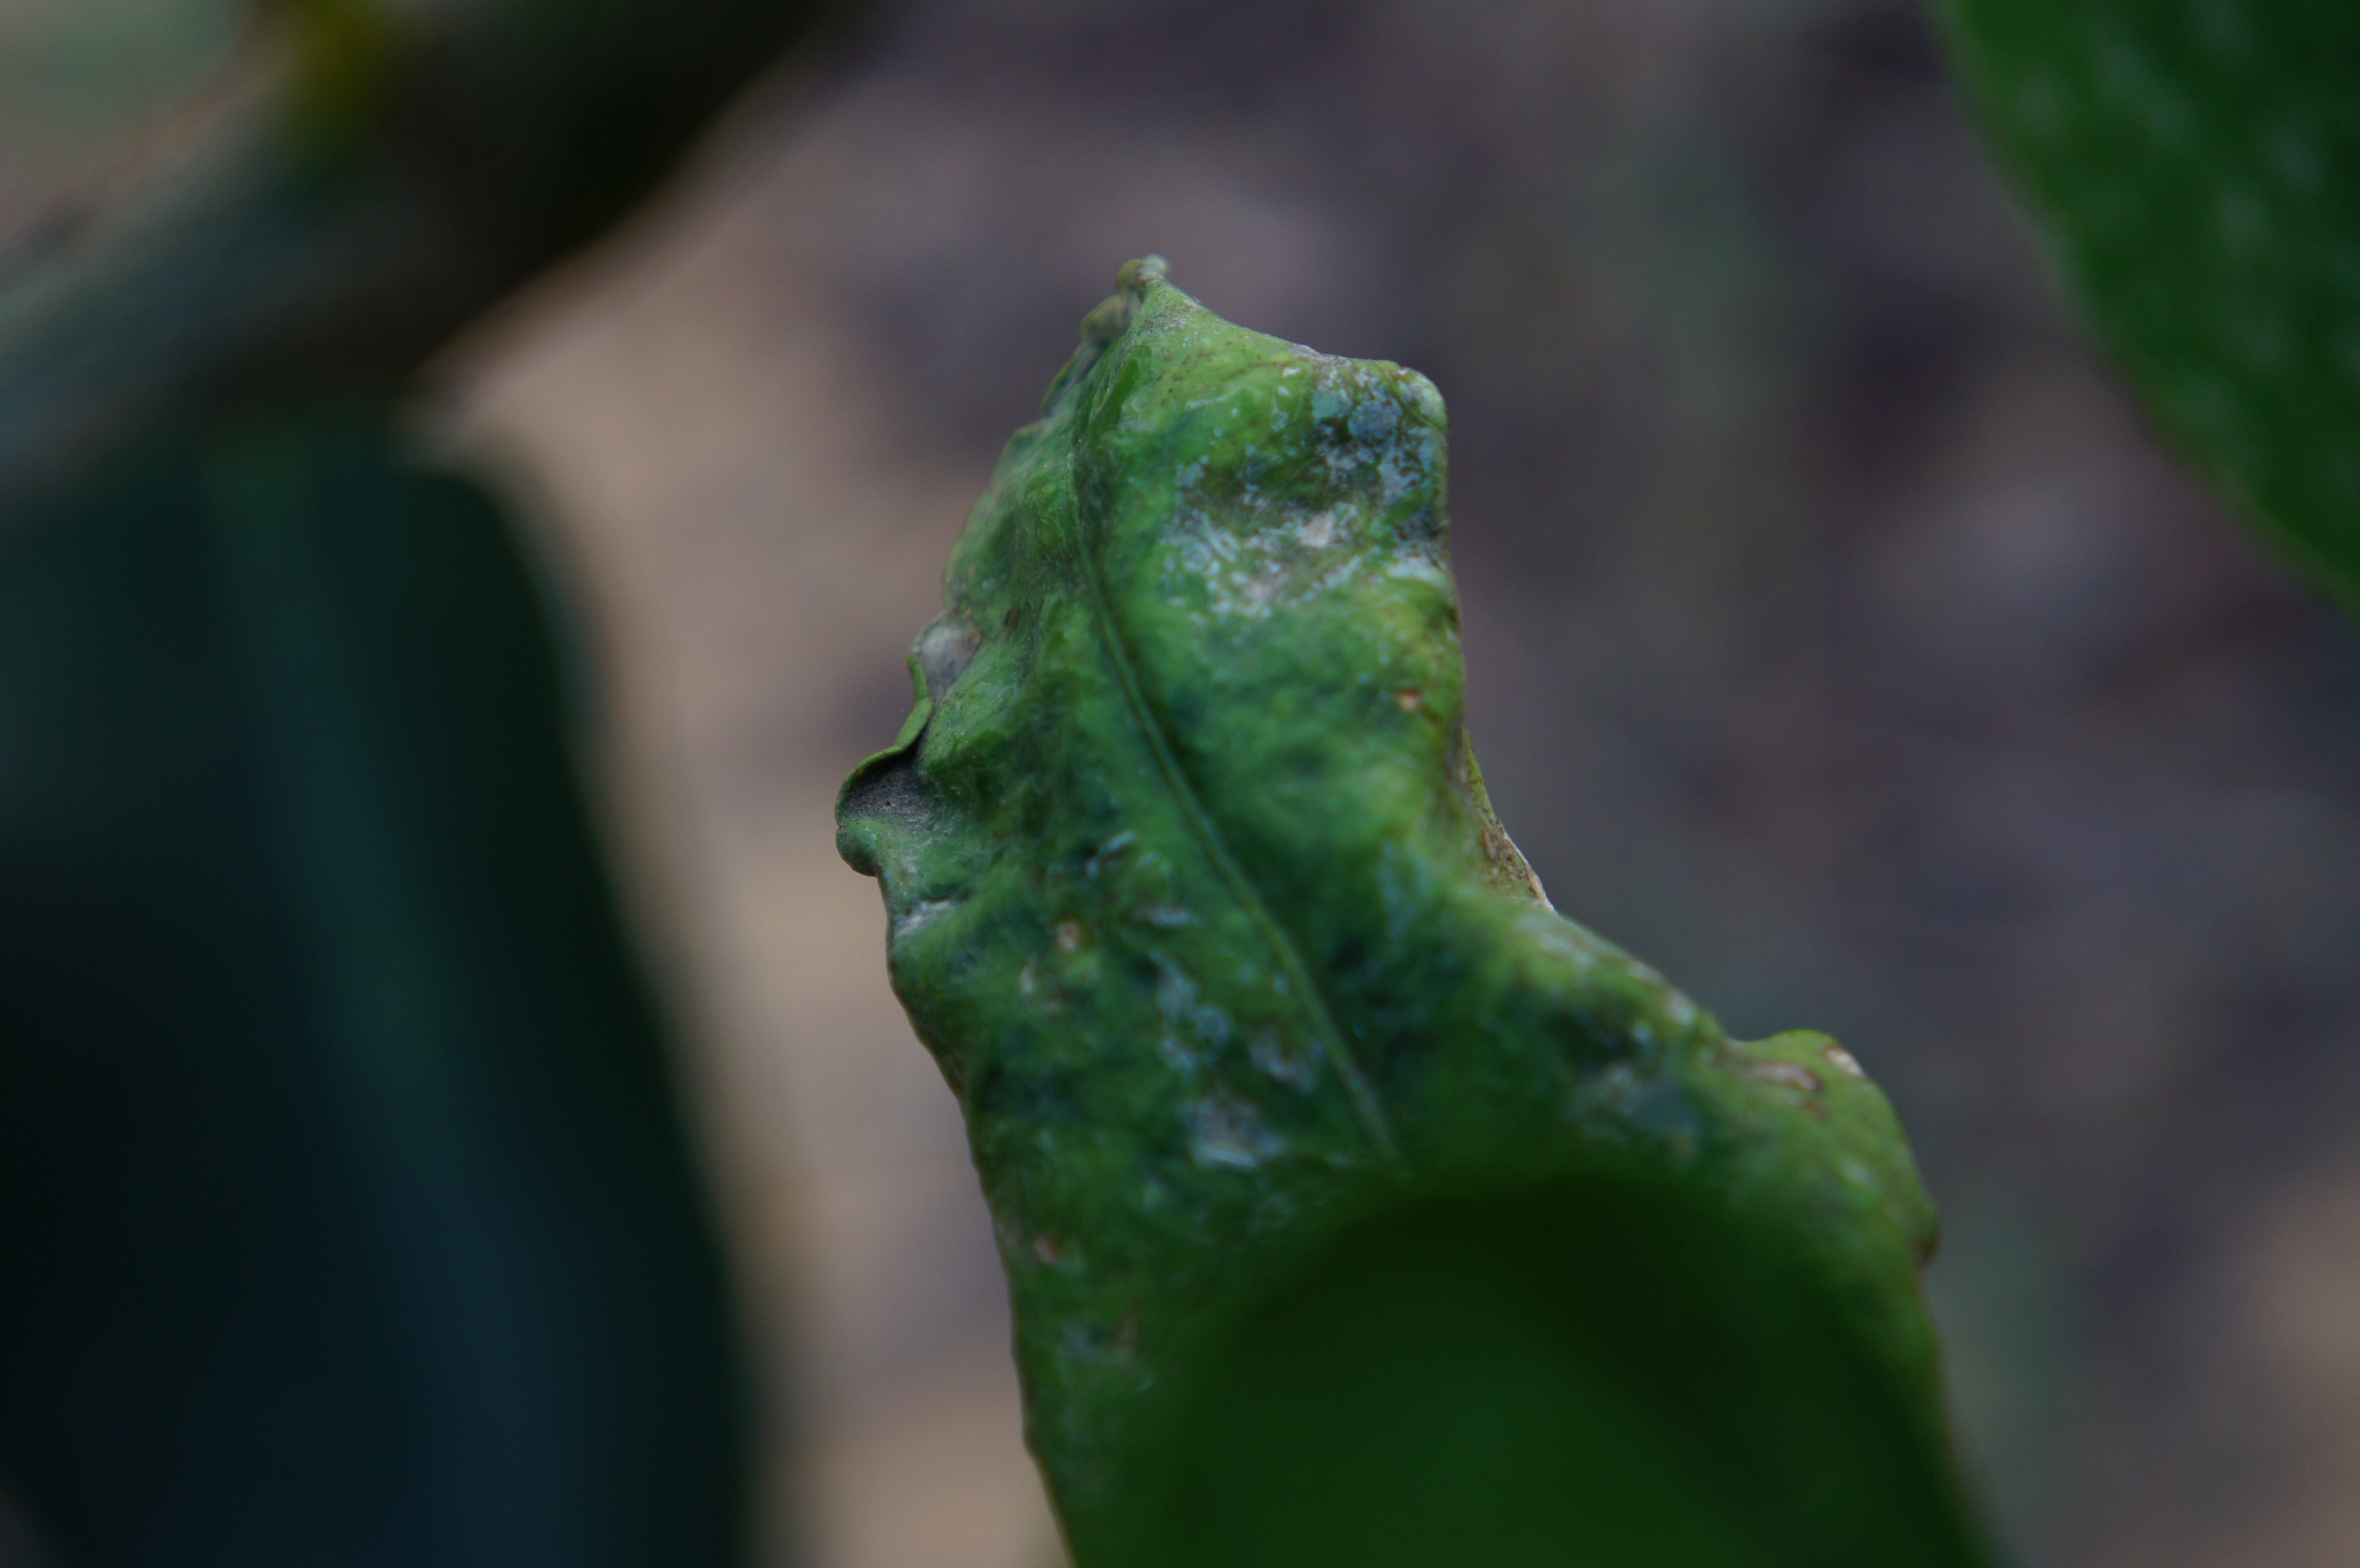curly: (803, 224, 1982, 1568)
